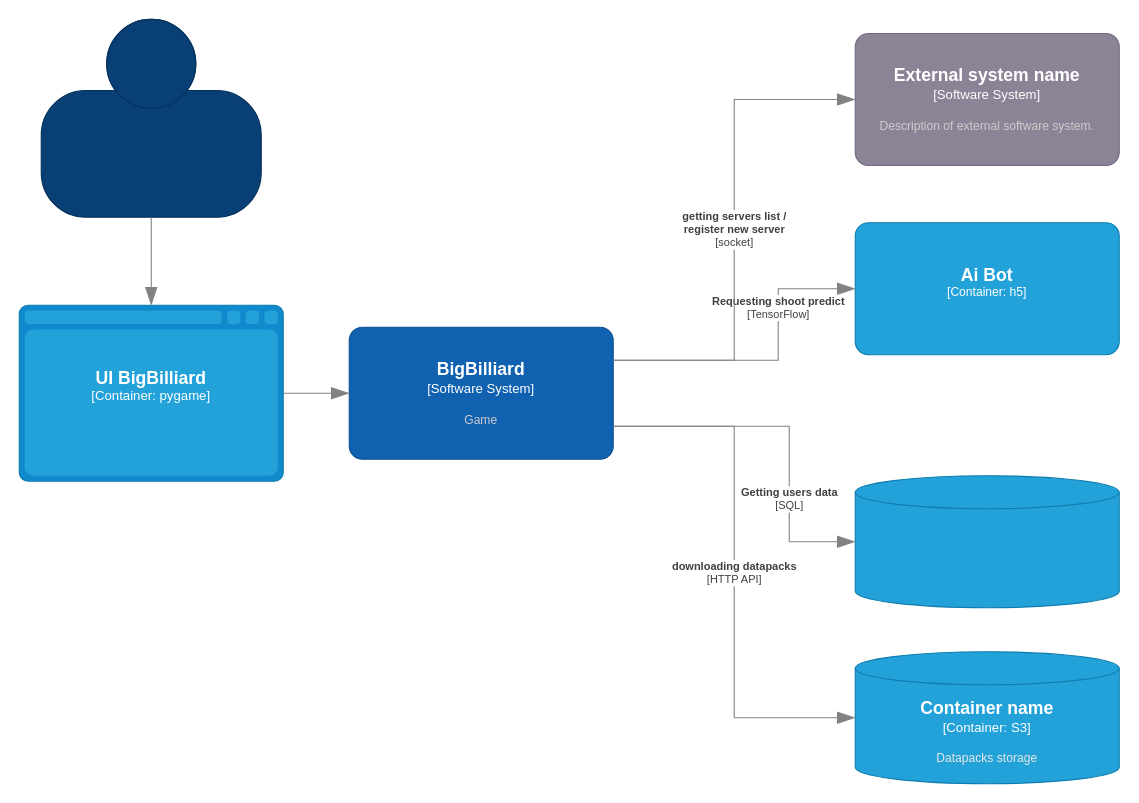
Some shapes in this 1139 by 803 pixel diagram are drawn without their labels. Here are the shapes that lost their labels. From the top down, the centre of each, then its label:
At (150,117): "Player [Person]".
At (986,541): "Users Database [Container: PostgreSQL]".
